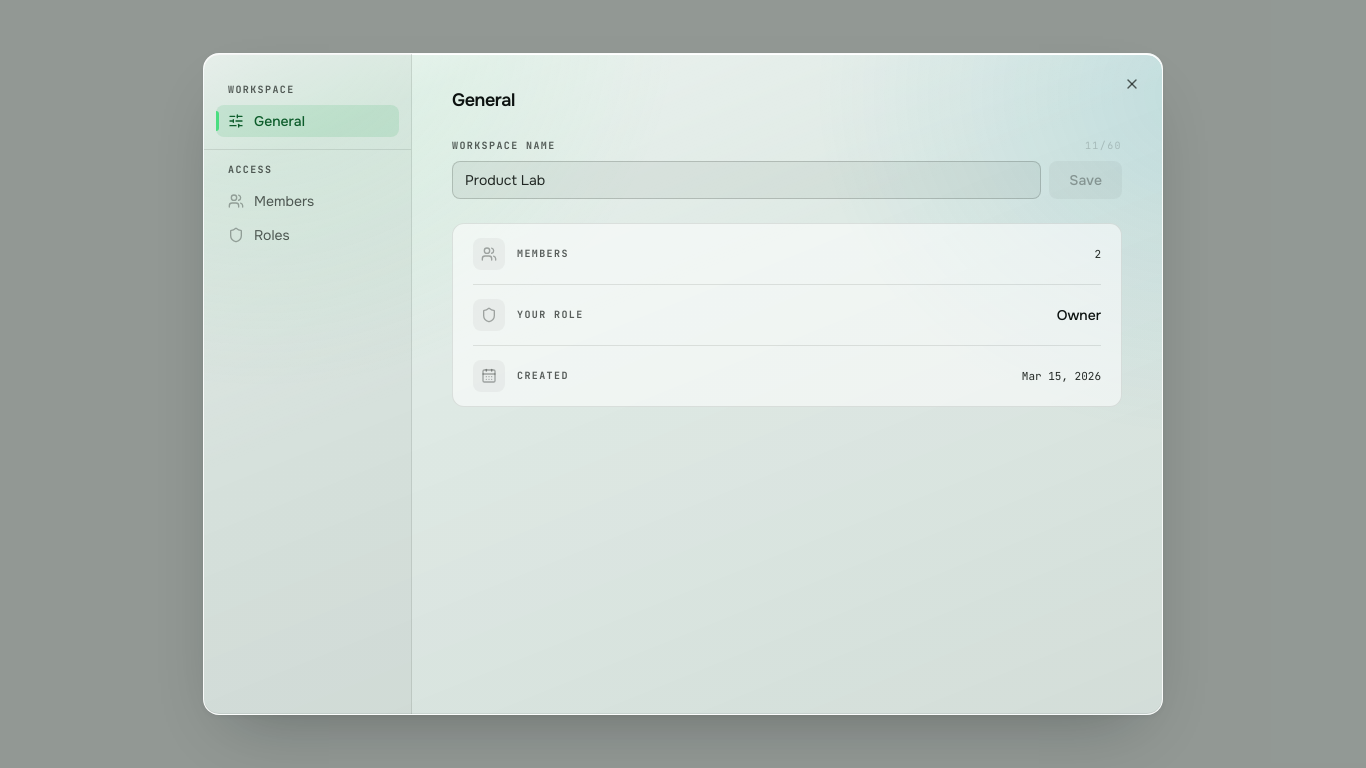
WorkspaceSettings › GIVEN loaded settings of a workspace the owner opened › WHEN the roles section is picked › THEN the role list offers a new role
Click the button "Roles".
click(308, 235)  # box [216,219,399,251]
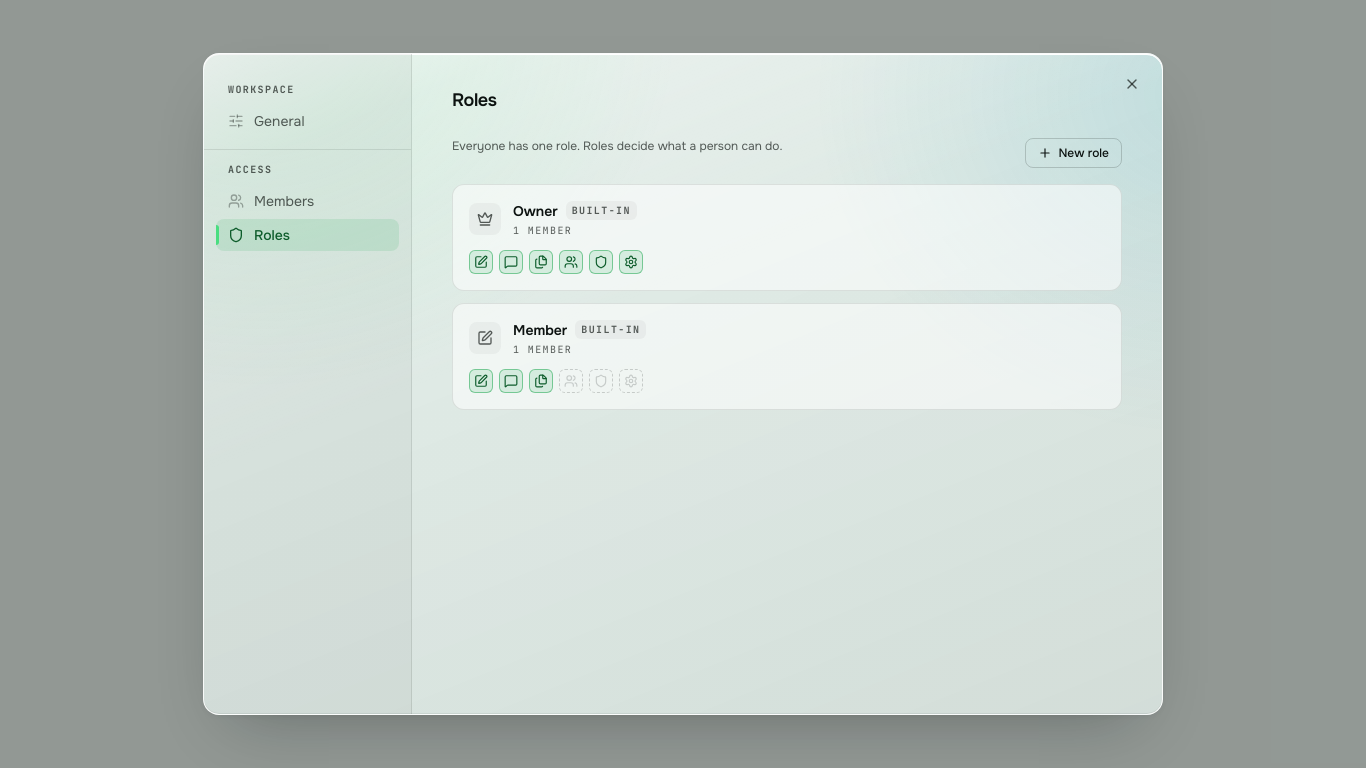
Expected: the button "New role" is shown, [1025,138,1122,168]
